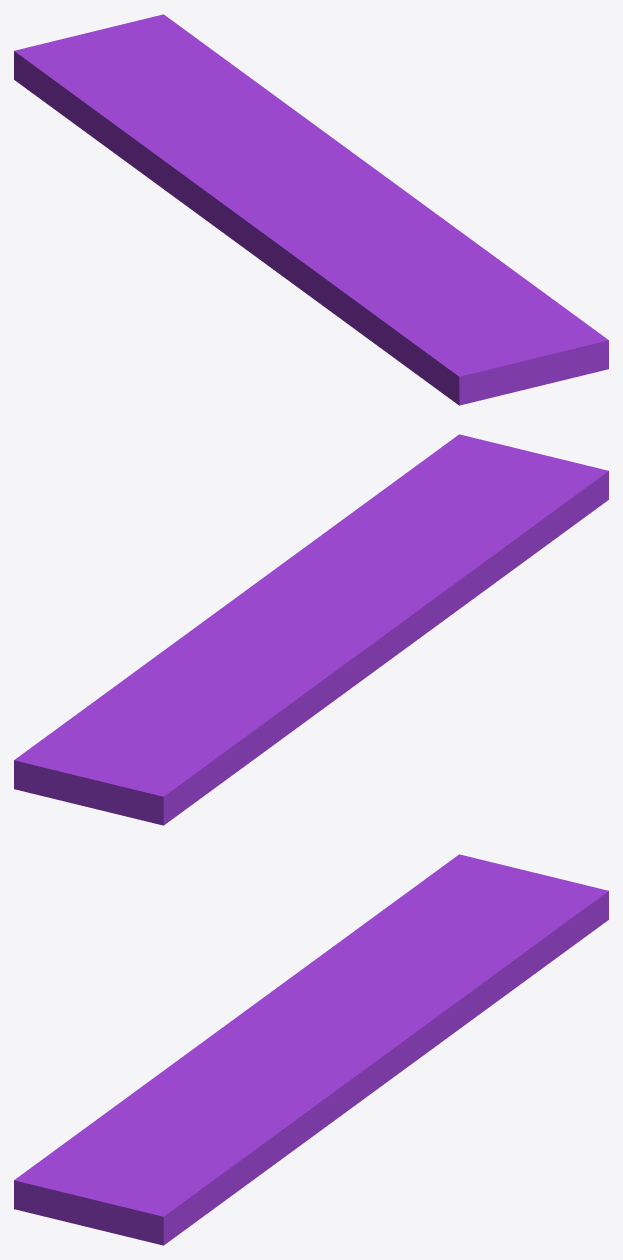
The model's file is StairsStep_92_chunks.fbx.
3 views of the same model, one above another, from view 1: azimuth 30°, elevation 25°; view 2: azimuth 150°, elevation 25°; view 3: azimuth 330°, elevation 25° (orthographic).
Visible parts, largest first — view 1: StairsStep_92_3, StairsStep_92_0, StairsStep_92_2, StairsStep_92_1; view 2: StairsStep_92_3, StairsStep_92_0, StairsStep_92_2, StairsStep_92_1; view 3: StairsStep_92_3, StairsStep_92_0, StairsStep_92_2, StairsStep_92_1.
Part boxes in pixels (<box>): StairsStep_92_3: <box>14,14,351,227</box>; StairsStep_92_0: <box>217,199,608,405</box>; StairsStep_92_2: <box>289,182,608,367</box>; StairsStep_92_1: <box>328,152,481,247</box>; StairsStep_92_3: <box>14,616,371,825</box>; StairsStep_92_0: <box>330,443,608,676</box>; StairsStep_92_2: <box>276,434,496,622</box>; StairsStep_92_1: <box>203,527,332,622</box>; StairsStep_92_3: <box>252,854,608,1051</box>; StairsStep_92_0: <box>14,1006,292,1245</box>; StairsStep_92_2: <box>126,1029,346,1243</box>; StairsStep_92_1: <box>165,1028,428,1244</box>.
Bounding box in the file's own units: 157 × 28.98 × 810.
